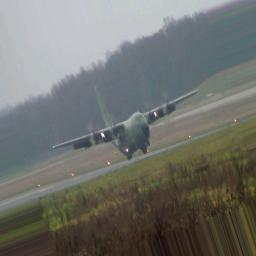Airplane: (49, 85, 203, 161)
